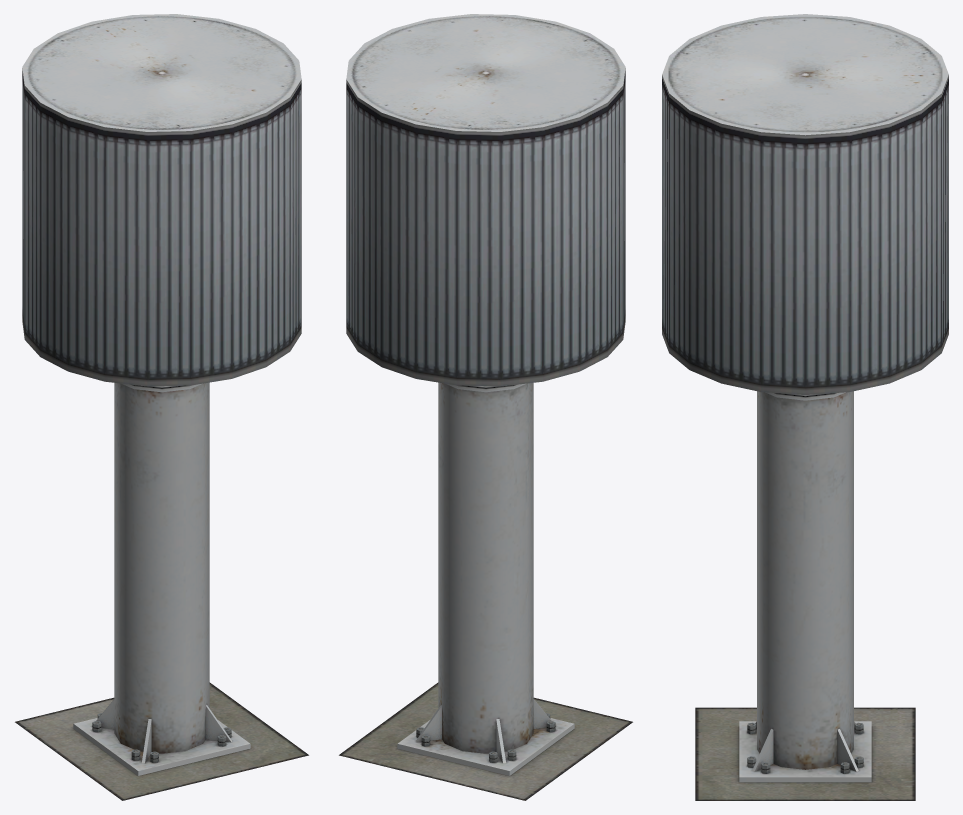
The model's file is jw_rotunda_1c.gltf.
3 renders of one model, left to right at view 1: azimuth 30°, elevation 25°; view 2: azimuth 150°, elevation 25°; view 3: azimuth 270°, elevation 25°, orthographic. The views are drawn at different scales.
Parts seen in each view (by area): view 1: jw_rotunda_1c; view 2: jw_rotunda_1c; view 3: jw_rotunda_1c.
Part boxes in pixels (x1,y1,x2,y2): jw_rotunda_1c: [15, 14, 308, 800]; jw_rotunda_1c: [339, 14, 632, 800]; jw_rotunda_1c: [662, 14, 948, 800].
Size of the model in its own units: 2.6 by 6.9 by 2.6.
